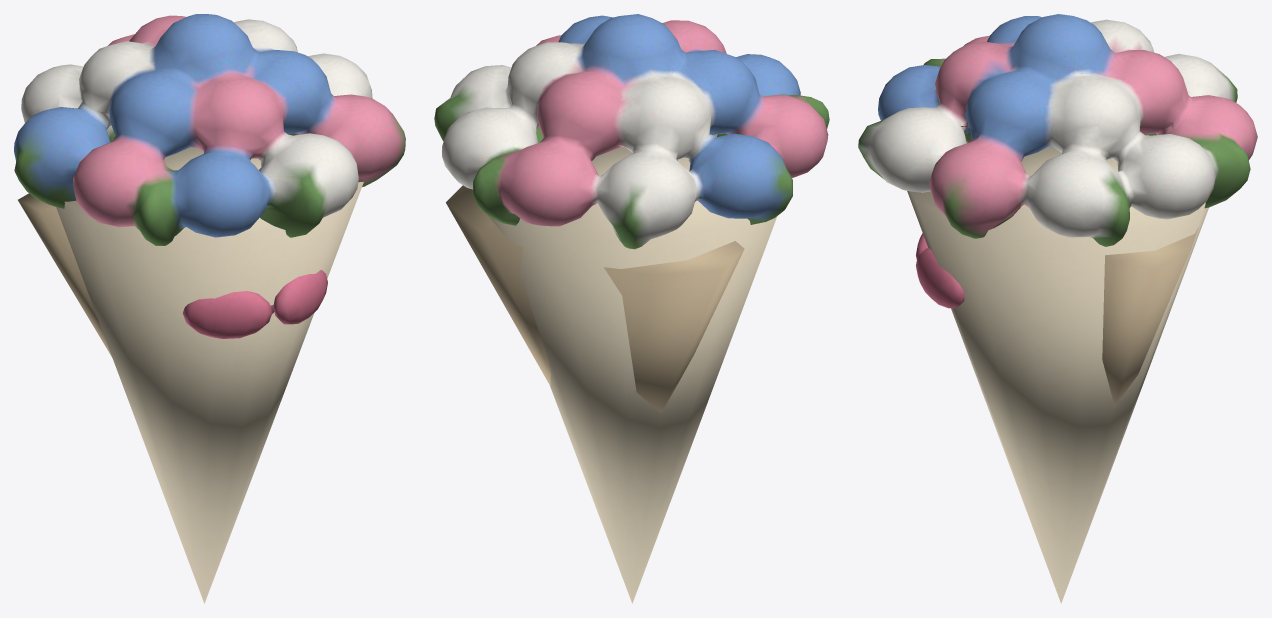
The model's file is tm-bouquet-wrapped.glb.
The picture shows the model from 3 angles, left to right: view 1: azimuth 30°, elevation 25°; view 2: azimuth 150°, elevation 25°; view 3: azimuth 270°, elevation 25°; orthographic projection.
Visible parts, largest first — view 1: tm-bouquet-wrapped; view 2: tm-bouquet-wrapped; view 3: tm-bouquet-wrapped.
Part boxes in pixels (x1,y1,x2,y2): tm-bouquet-wrapped: (14,14,405,603); tm-bouquet-wrapped: (434,14,829,603); tm-bouquet-wrapped: (858,14,1257,603).
Bounding box in the file's own units: 0.283 × 0.4593 × 0.2847.
Materials: 1 (1 with a texture image).
